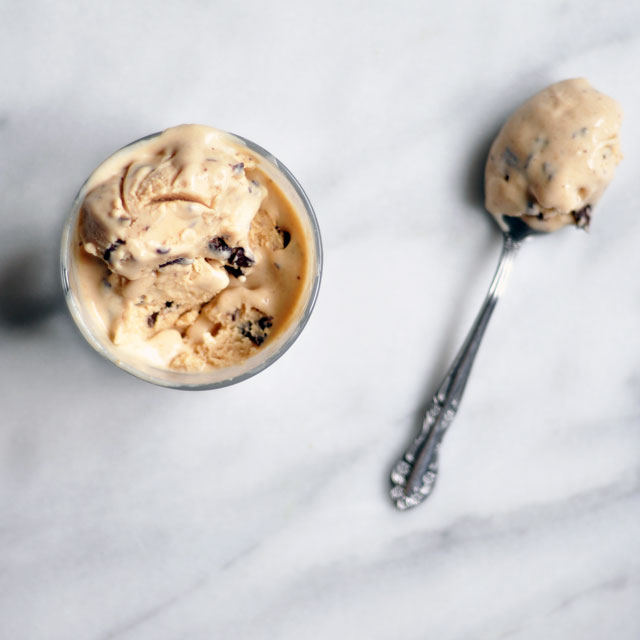ice-cream: (73, 144, 307, 376), (485, 78, 620, 229)
